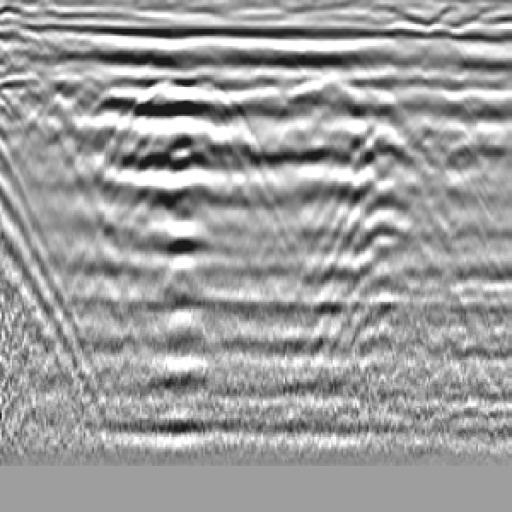metalic: (100, 50, 268, 185)
